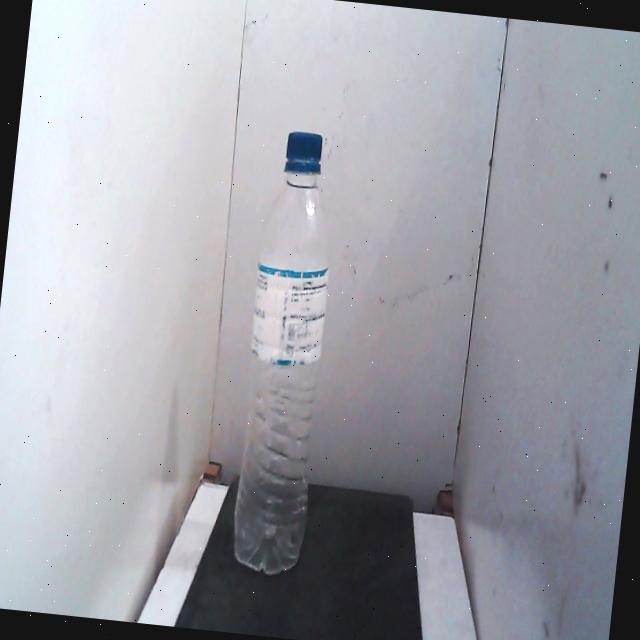plastico: (217, 113, 355, 597)
